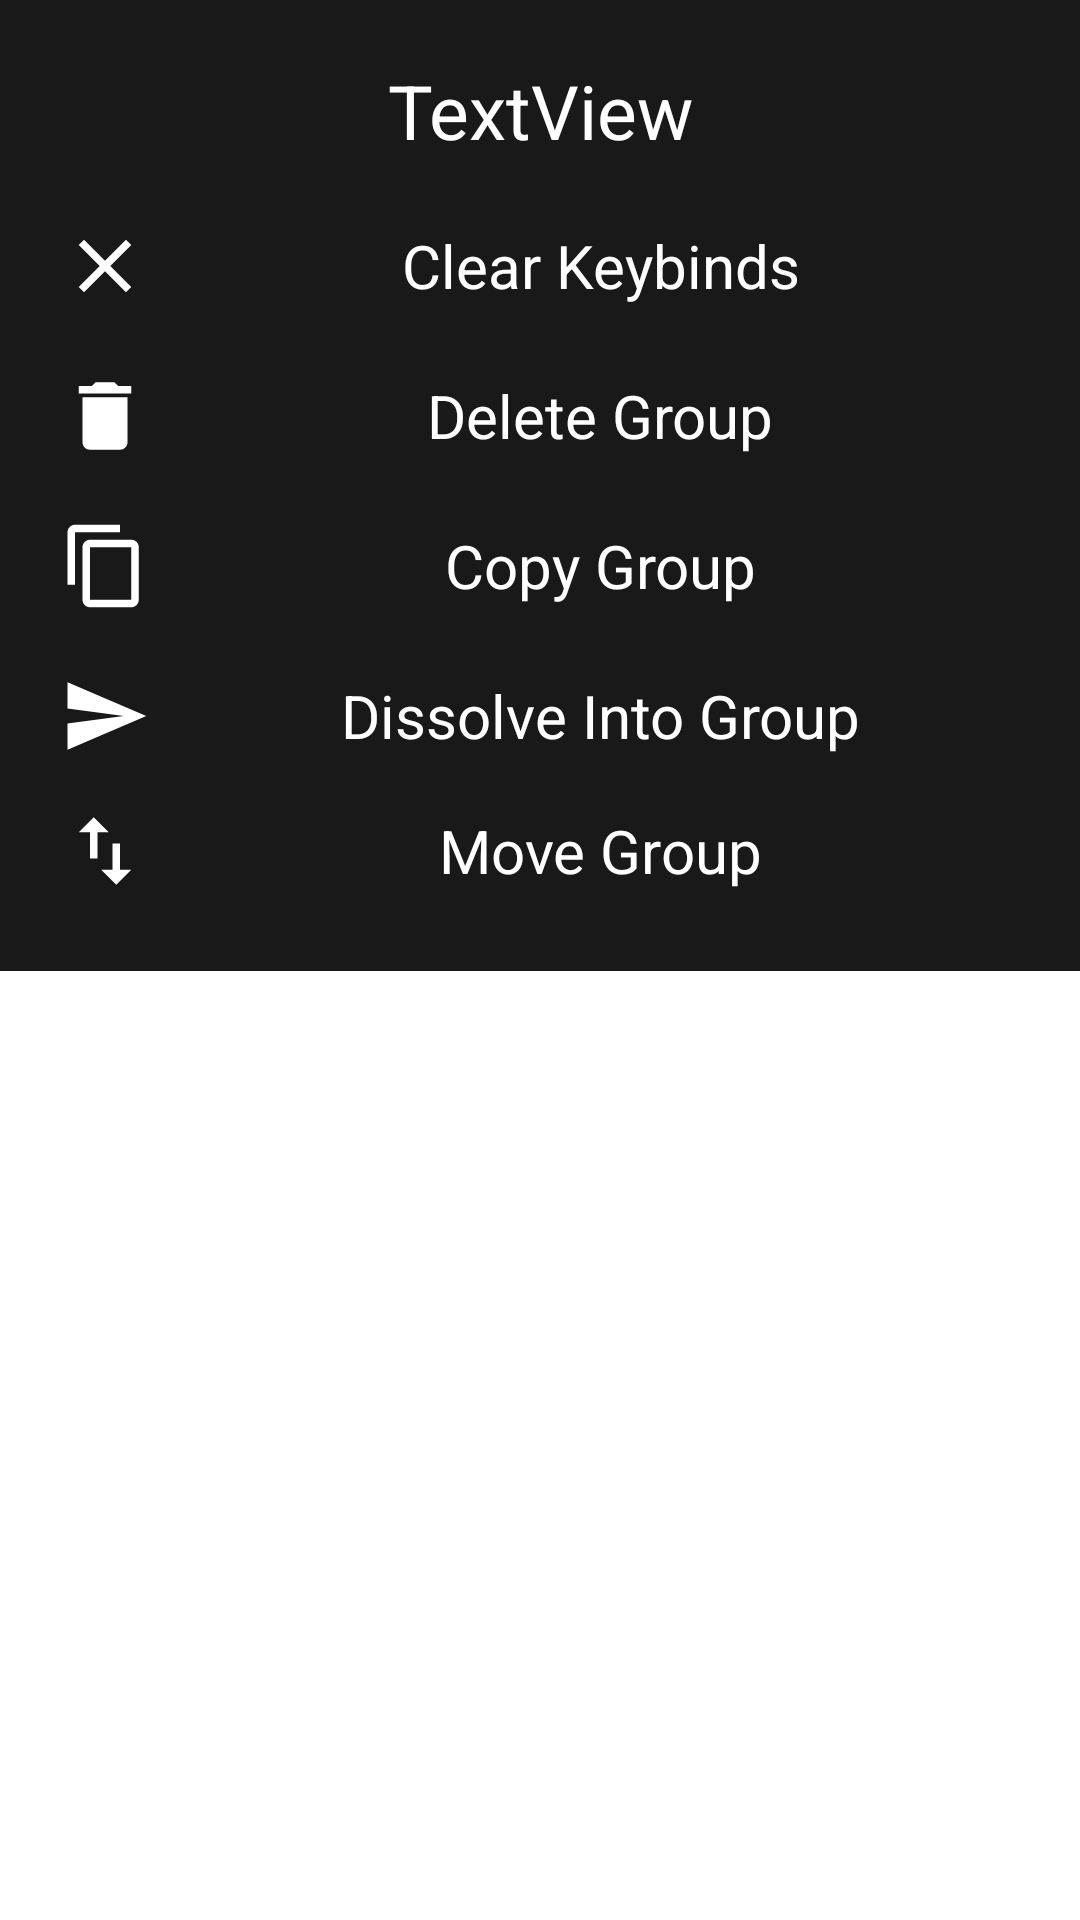

Where icons sit on this 1080px x 1920px app screen, as (x1, y1, x2, y2):
send: (67, 682, 146, 750)
up down arrow: (79, 817, 131, 885)
